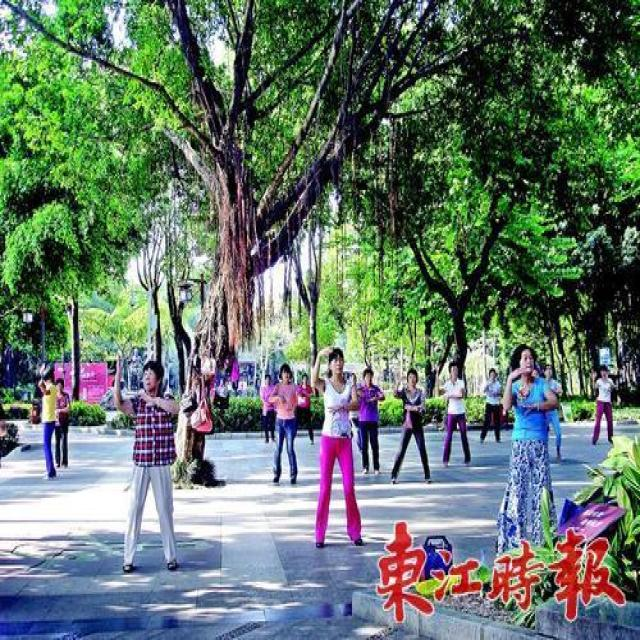non-fight: (500, 344, 566, 558), (123, 358, 183, 570), (312, 346, 366, 548), (391, 366, 432, 486), (435, 346, 474, 466), (268, 363, 300, 484), (41, 373, 67, 477), (589, 359, 618, 445)
